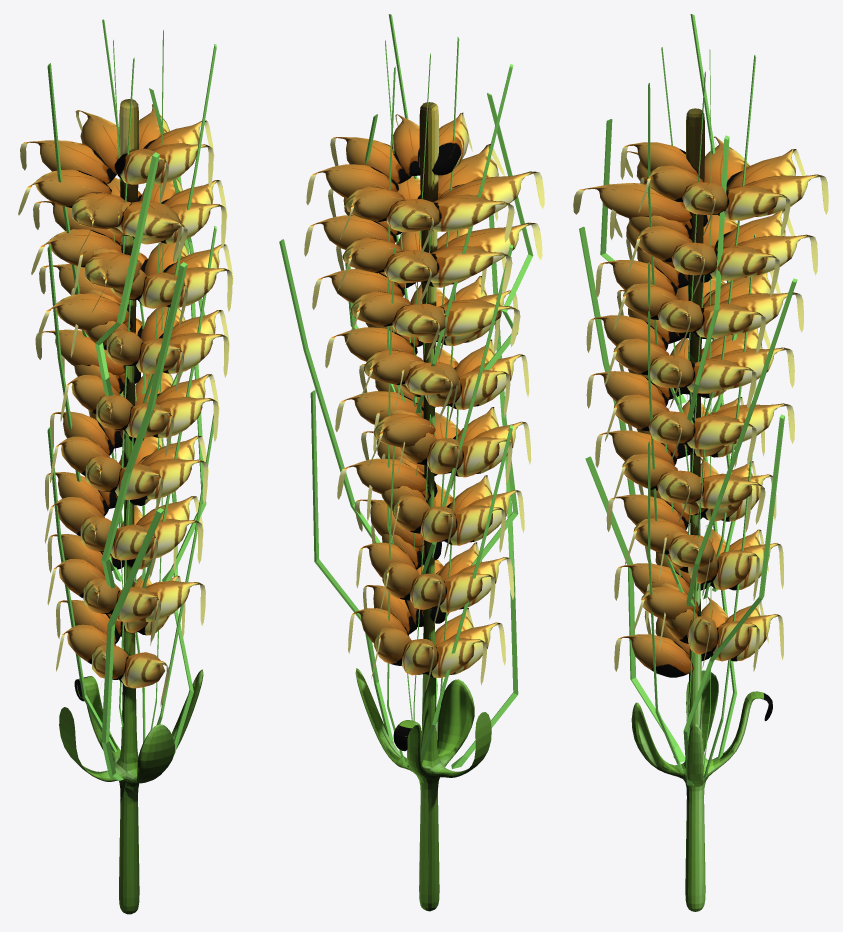
File: maizi.glb
3 views of the same model, side by side, from view 1: azimuth 30°, elevation 25°; view 2: azimuth 150°, elevation 25°; view 3: azimuth 270°, elevation 25° (orthographic).
Parts seen in each view (by area): view 1: Cube.001, Cube.002, Cube; view 2: Cube.001, Cube.002, Cube; view 3: Cube.001, Cube.002, Cube.
Boxes of the visible parts, left/top/right/bottom form: Cube.001: left=18, top=104, right=233, bottom=706; Cube.002: left=47, top=19, right=216, bottom=780; Cube: left=59, top=99, right=203, bottom=914; Cube.001: left=304, top=112, right=544, bottom=691; Cube.002: left=279, top=14, right=533, bottom=774; Cube: left=355, top=102, right=491, bottom=911; Cube.001: left=573, top=136, right=828, bottom=677; Cube.002: left=579, top=14, right=797, bottom=785; Cube: left=631, top=108, right=772, bottom=911.
Bounding box in the file's own units: 1.33 × 5.65 × 1.52.
Materials: 4 (2 with a texture image).
